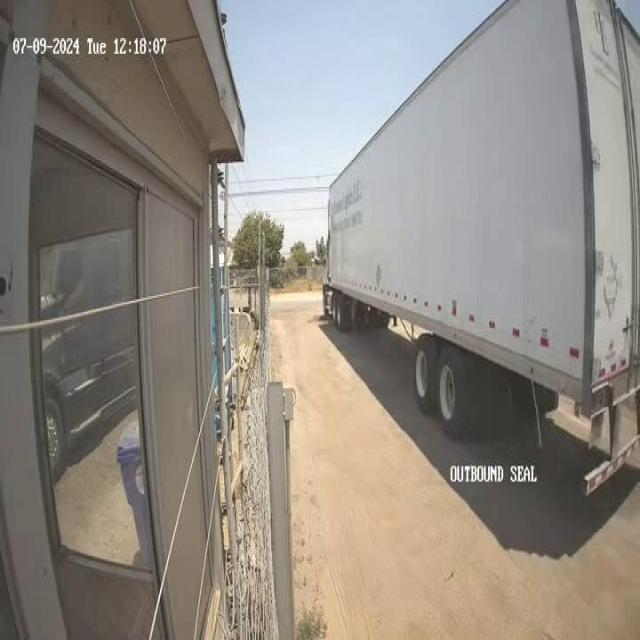TRUCK_CONTAINER: (319, 1, 639, 500)
